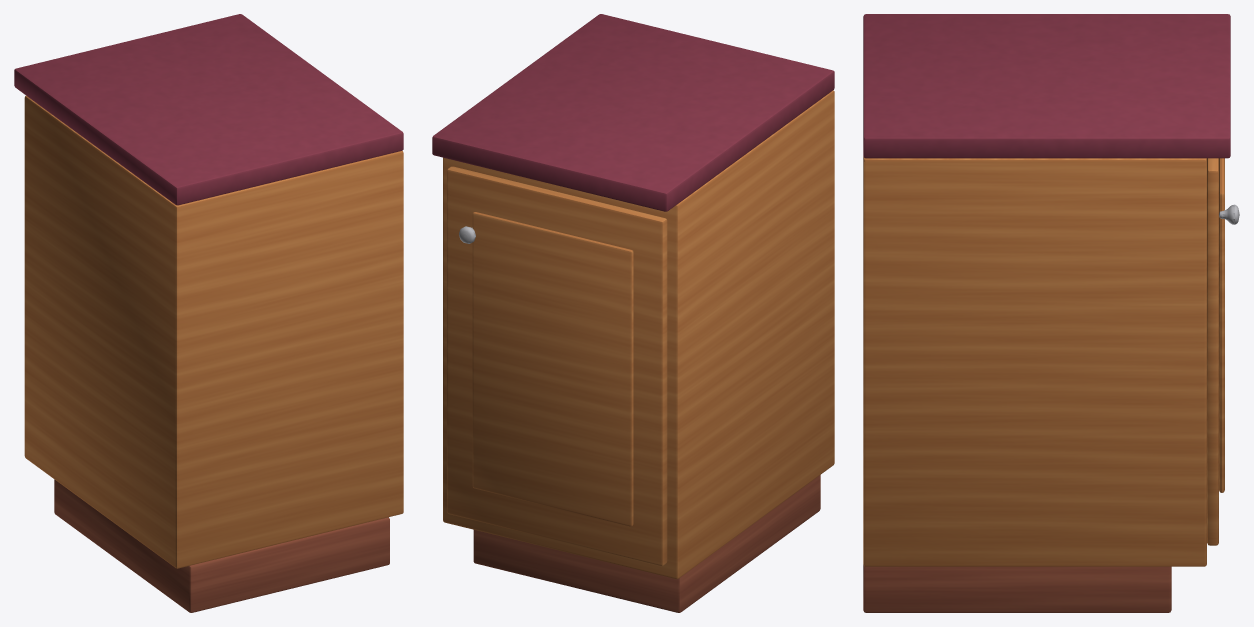
File: SM_Cabinet_Base_Door_05.fbx
3 renders of one model, left to right at view 1: azimuth 30°, elevation 25°; view 2: azimuth 150°, elevation 25°; view 3: azimuth 270°, elevation 25°, orthographic. The views are drawn at different scales.
Visible parts, largest first — view 1: SM_Cabinet_Base_Door_05; view 2: SM_Cabinet_Base_Door_05; view 3: SM_Cabinet_Base_Door_05.
Part boxes in pixels (x1,y1,x2,y2): SM_Cabinet_Base_Door_05: (14,14,403,612); SM_Cabinet_Base_Door_05: (432,14,834,612); SM_Cabinet_Base_Door_05: (863,14,1239,612).
Size of what is drawn, in the model's own units: 0.5 by 0.9 by 0.635.
Materials: 4 (4 with a texture image).
